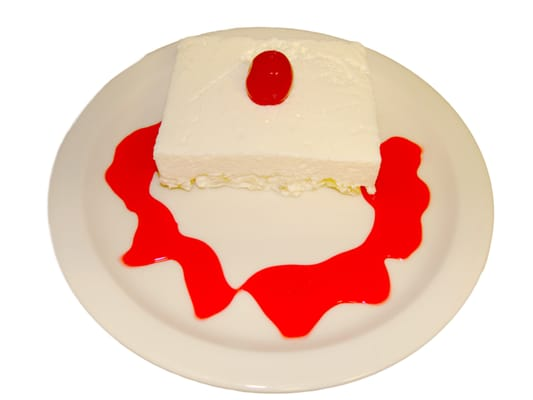sushi: (13, 22, 509, 399), (101, 27, 457, 341)
